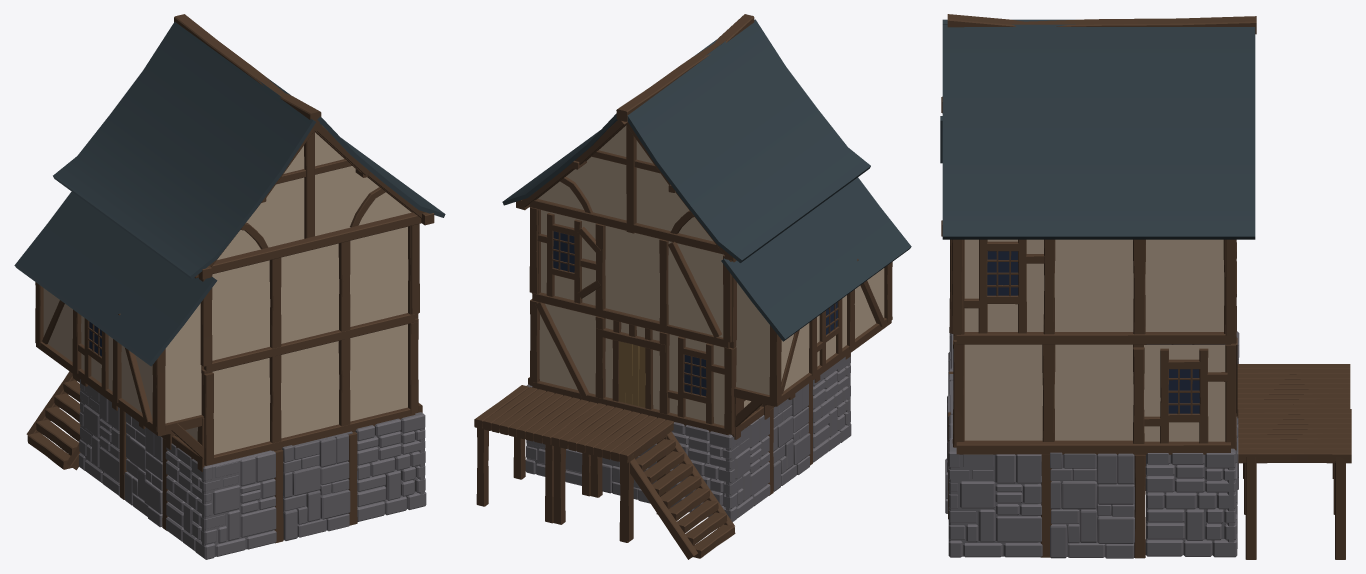
The model's file is CombinedHouseModel1.fbx.
3 views of the same model, side by side, from view 1: azimuth 30°, elevation 25°; view 2: azimuth 150°, elevation 25°; view 3: azimuth 270°, elevation 25° (orthographic). The views are drawn at different scales.
Parts seen in each view (by area): view 1: Cube.030; view 2: Cube.030; view 3: Cube.030.
Boxes of the visible parts, x1,y1,x2,y2 form: Cube.030: (14, 14, 445, 559); Cube.030: (474, 14, 911, 559); Cube.030: (940, 14, 1351, 559).
Size of the model in its own units: 8.62 by 11.81 by 9.07.
